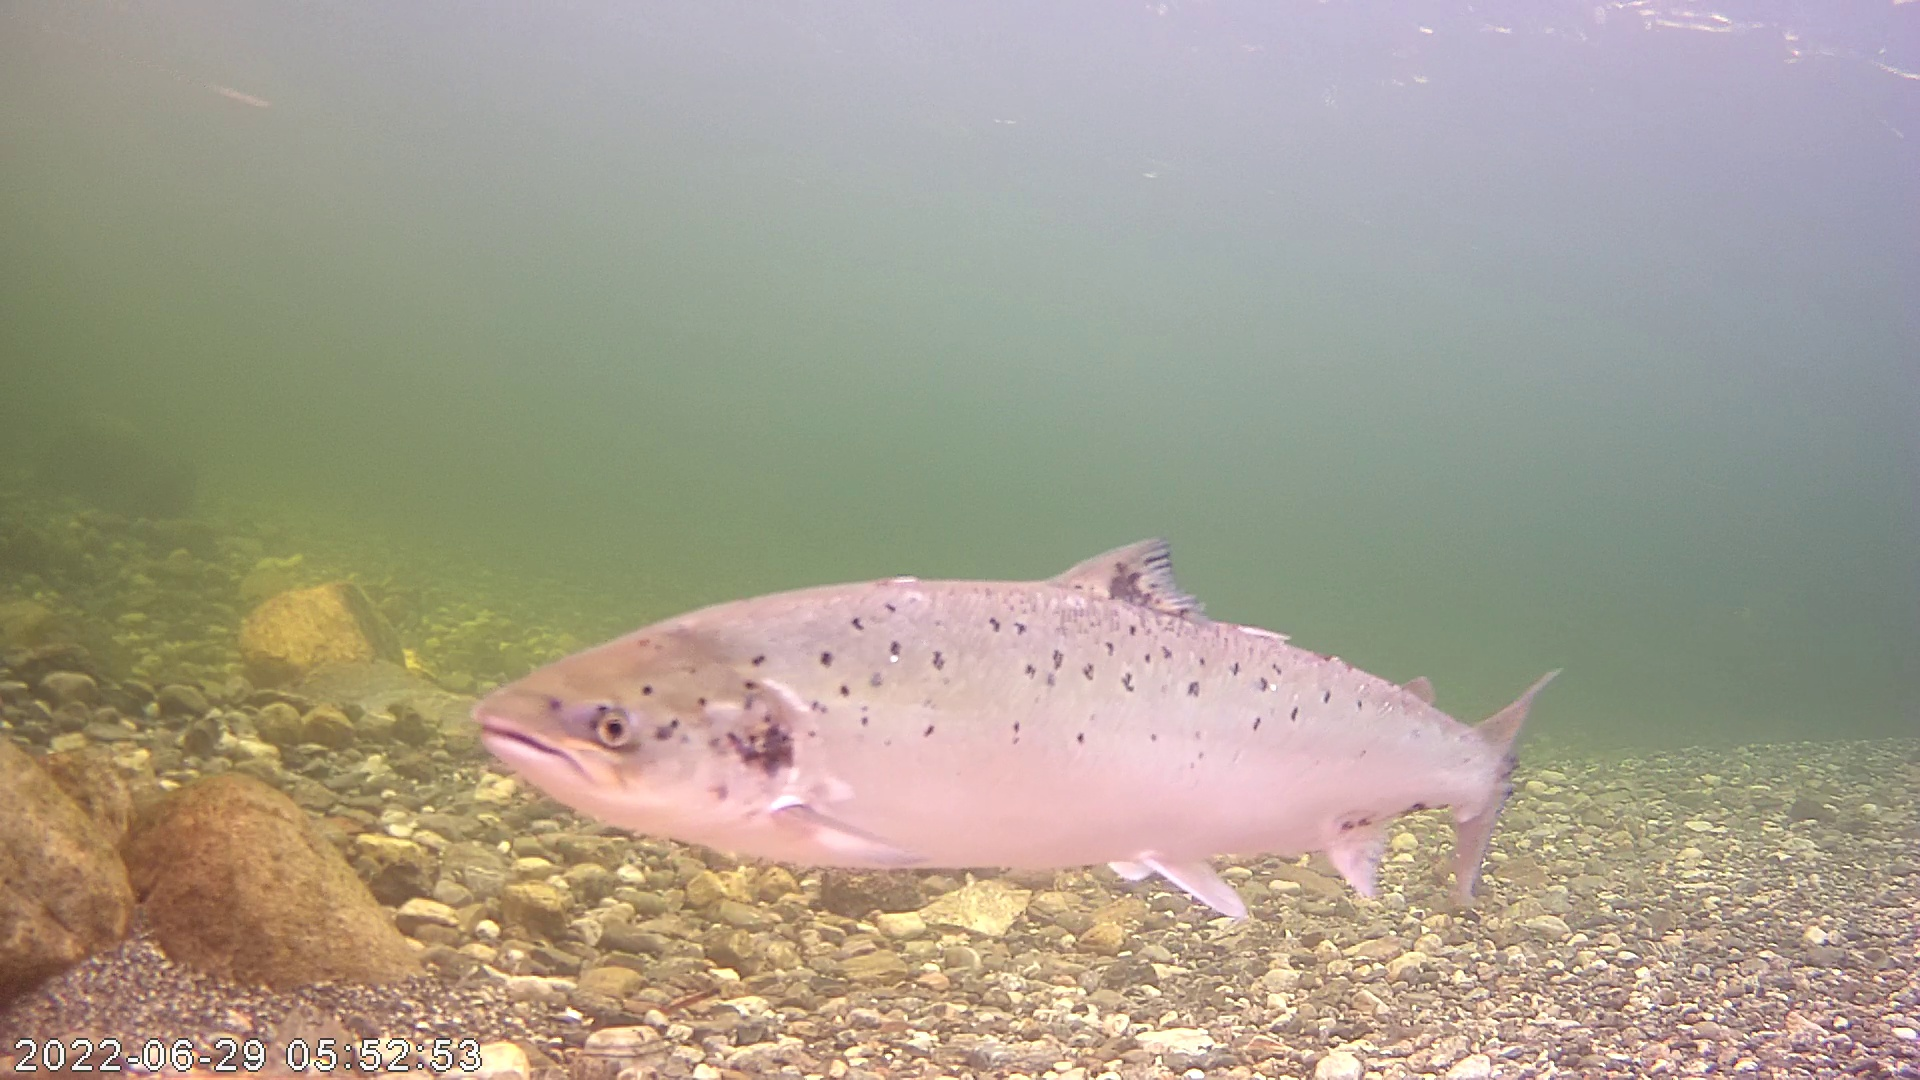salmon: (465, 530, 1567, 930)
